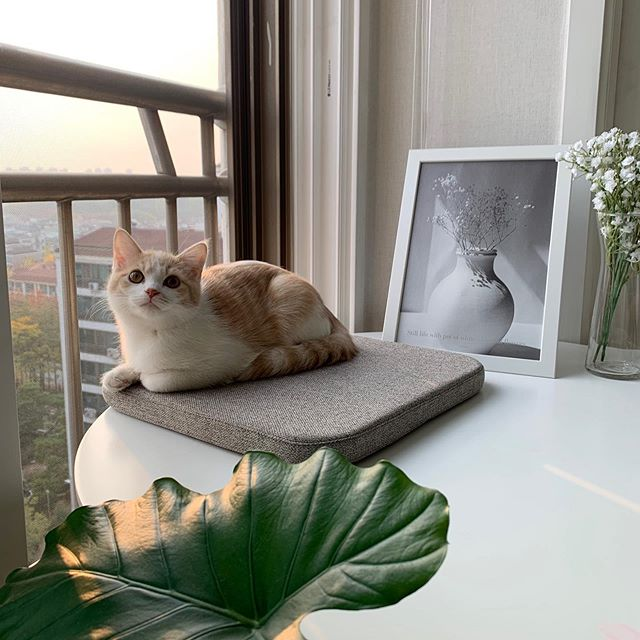cat: (97, 218, 219, 340)
